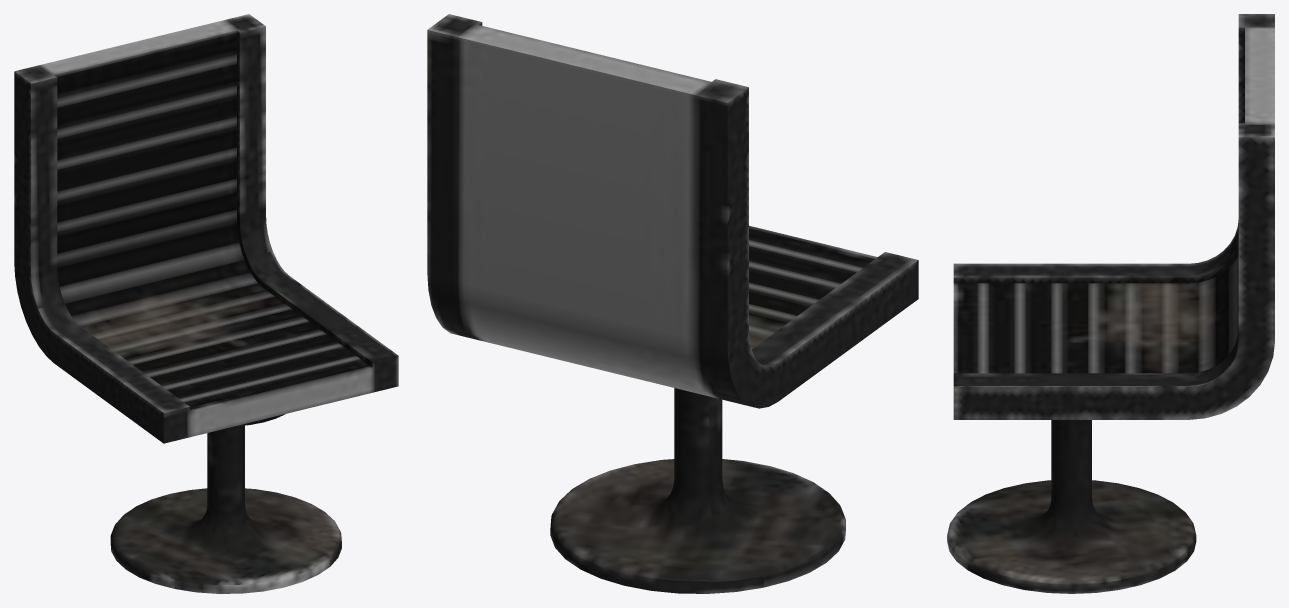
Rendered from SM_chair.glb.
3 views of the same model, side by side, from view 1: azimuth 30°, elevation 25°; view 2: azimuth 150°, elevation 25°; view 3: azimuth 270°, elevation 25° (orthographic). The views are drawn at different scales.
Parts seen in each view (by area): view 1: SM_chair; view 2: SM_chair; view 3: SM_chair.
Part boxes in pixels (x1=…): SM_chair: x1=14, y1=14, x2=398, y2=593; SM_chair: x1=427, y1=14, x2=918, y2=593; SM_chair: x1=947, y1=14, x2=1274, y2=593.
Bounding box in the file's own units: 0.6488 × 1.14 × 0.7294.
1 material, 1 textured.
